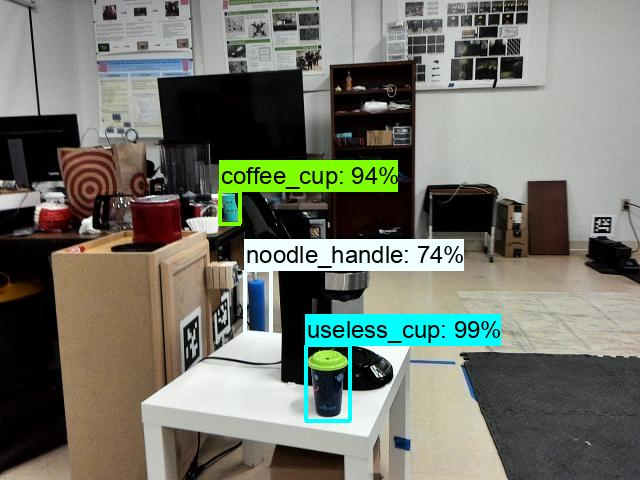coffee_cup: (220, 191, 242, 224)
noodle_handle: (239, 272, 269, 331)
useless_cup: (305, 344, 350, 421)
